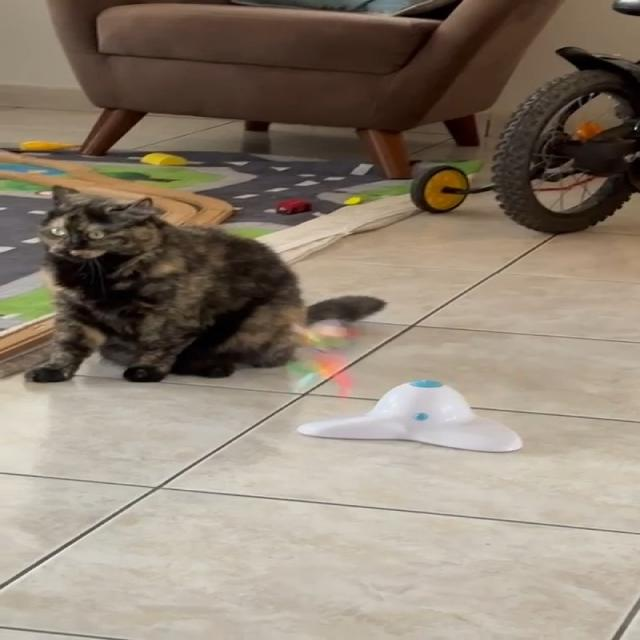authorized: (24, 184, 387, 383)
